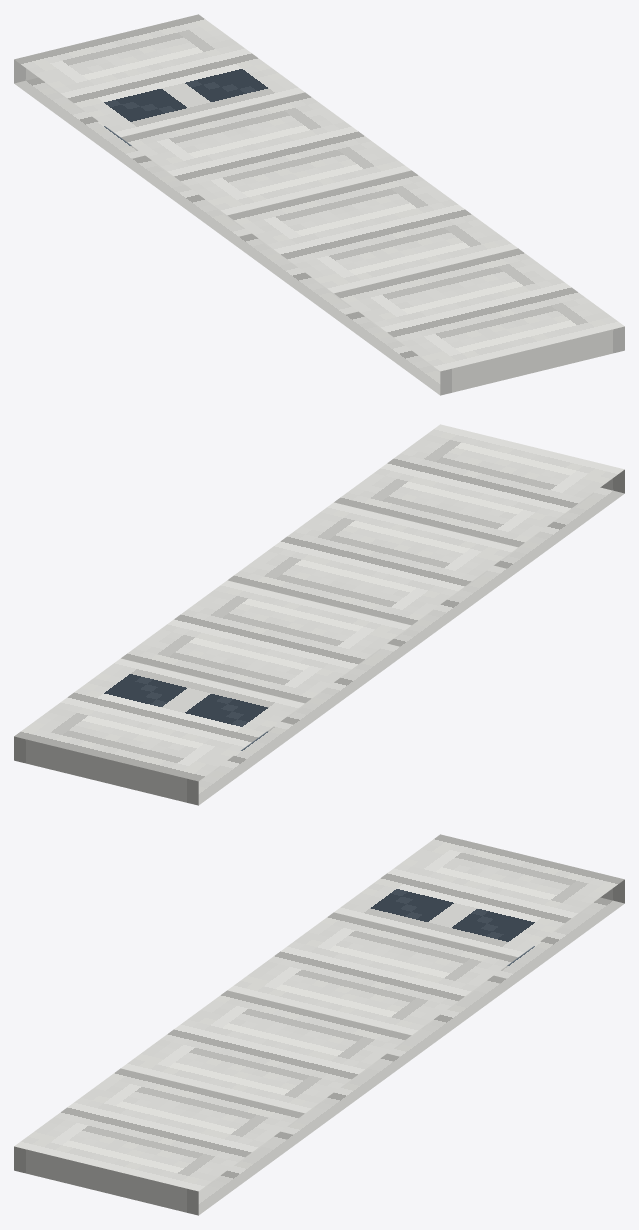
Rendered from windowed_run_4.obj.
3 renders of one model, top to bottom at view 1: azimuth 30°, elevation 25°; view 2: azimuth 150°, elevation 25°; view 3: azimuth 330°, elevation 25°, orthographic.
Parts seen in each view (by area): view 1: run; view 2: run; view 3: run.
Part boxes in pixels (bbox=[...]): run: bbox=[14, 14, 624, 395]; run: bbox=[14, 424, 624, 805]; run: bbox=[14, 834, 624, 1215].
Size of the model in its own units: 1 by 0.125 by 4.
